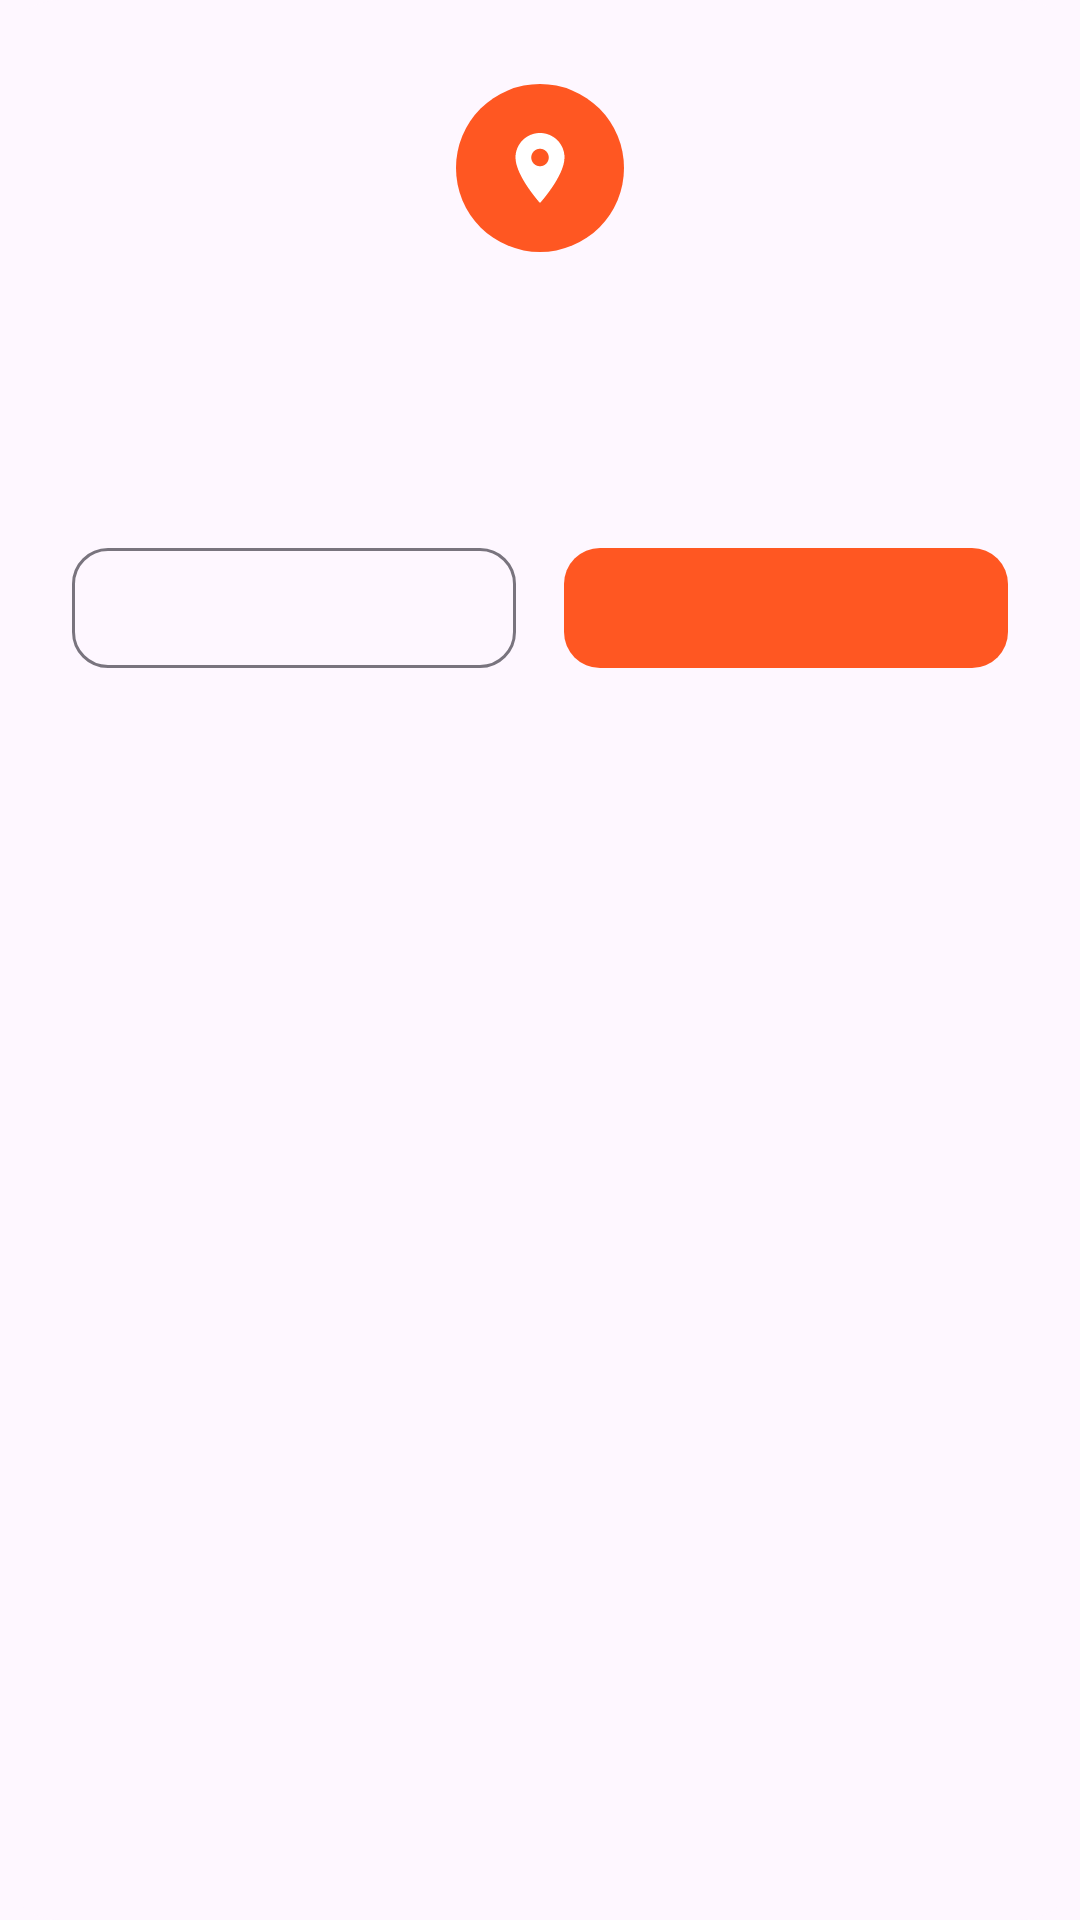

Screen size 1080*1920. Icon name, then its box in pixels as (x1, y1, x2, y2):
location: (515, 133, 565, 203)
